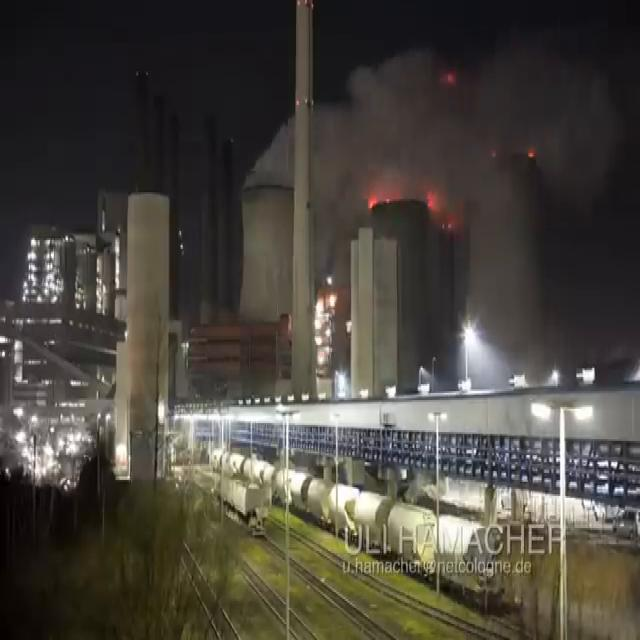smoke: (311, 0, 640, 348), (243, 126, 293, 190)
